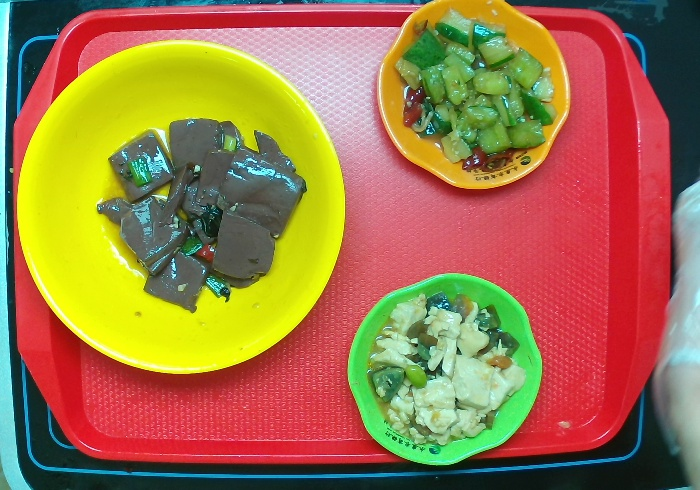YKMZ-Huang_Se_Tang_Wan: (15, 35, 354, 382)
YKMZ-Ju_Se_Ao_Bian_Wan: (368, 1, 575, 191)
YKMZ-Lv_Se_Ao_Bian_Wan: (343, 269, 546, 469)
